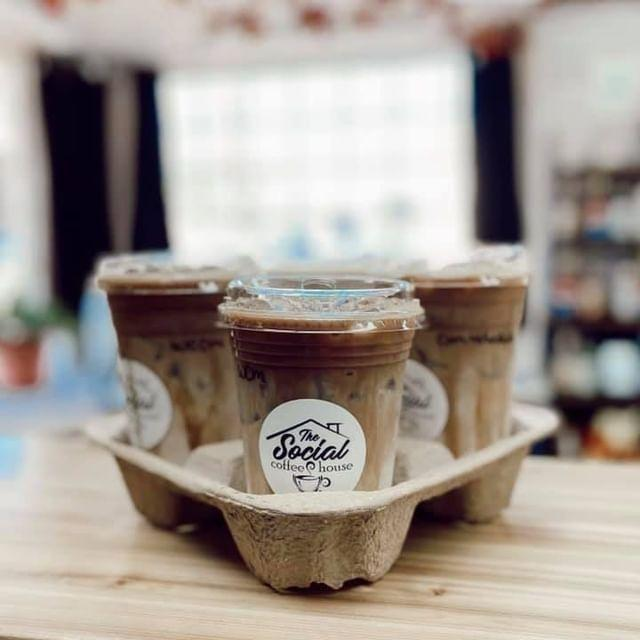cup-disposable: (216, 265, 428, 502), (96, 253, 256, 460), (409, 262, 533, 453)
